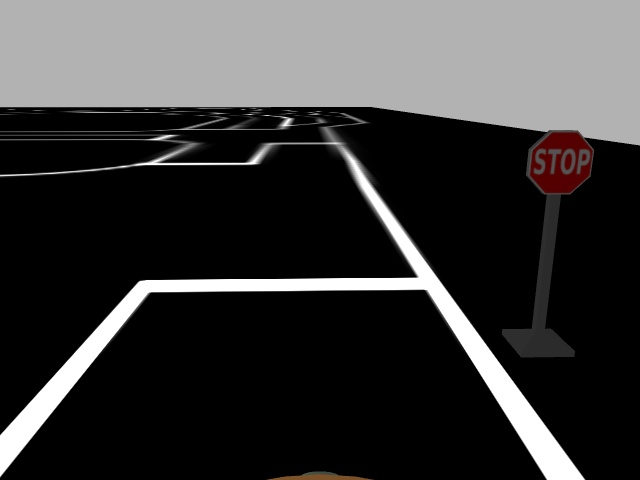stop: (526, 128, 596, 198)
